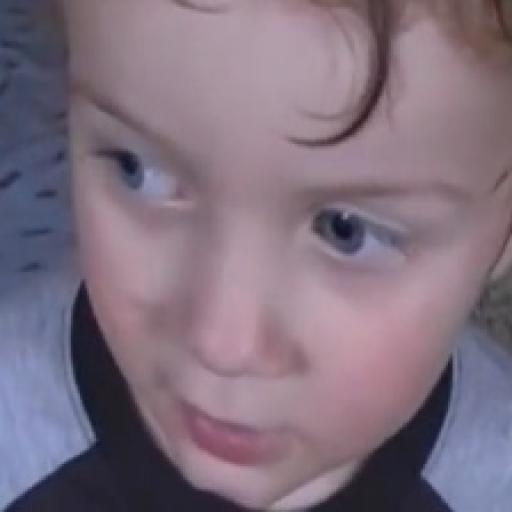Autism: (86, 0, 450, 512)
